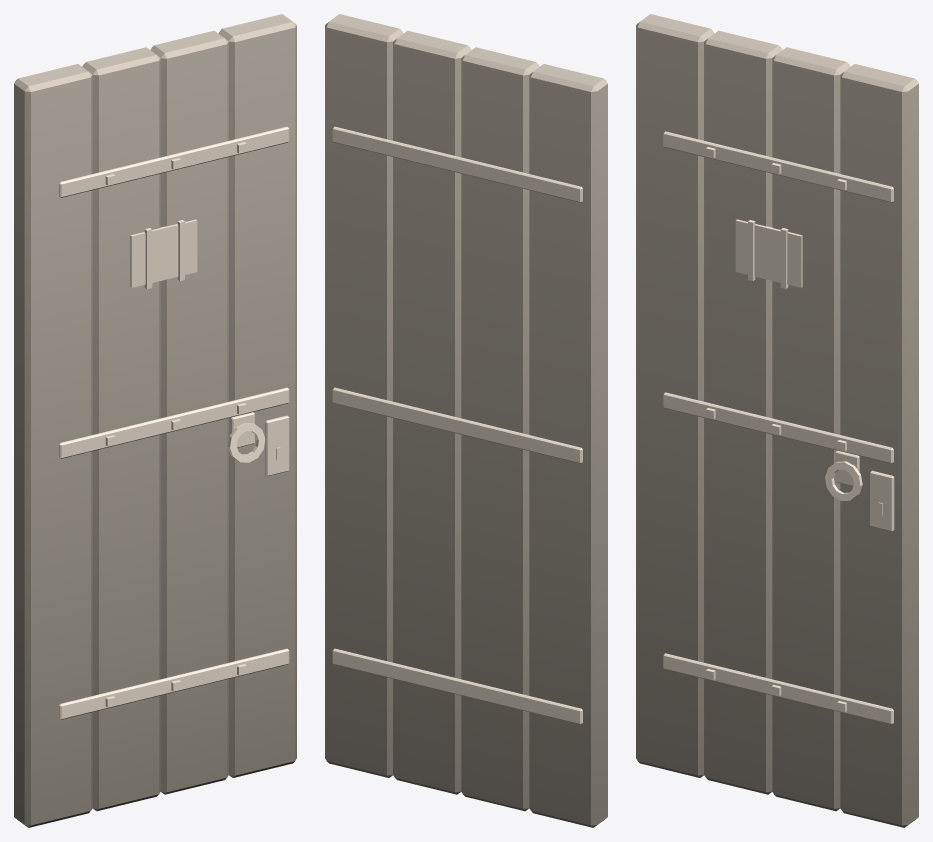
Rendered from SM_VKI_Leaf_Iron_Full.fbx.
3 views of the same model, side by side, from view 1: azimuth 30°, elevation 25°; view 2: azimuth 150°, elevation 25°; view 3: azimuth 330°, elevation 25° (orthographic).
Parts seen in each view (by area): view 1: SM_VKI_Leaf_Iron_Full.001; view 2: SM_VKI_Leaf_Iron_Full.001; view 3: SM_VKI_Leaf_Iron_Full.001.
Part boxes in pixels (<box>): SM_VKI_Leaf_Iron_Full.001: <box>14,14,296,827</box>; SM_VKI_Leaf_Iron_Full.001: <box>325,14,607,827</box>; SM_VKI_Leaf_Iron_Full.001: <box>636,14,918,827</box>.
Bounding box in the file's own units: 0.83 × 2.16 × 0.1309.
